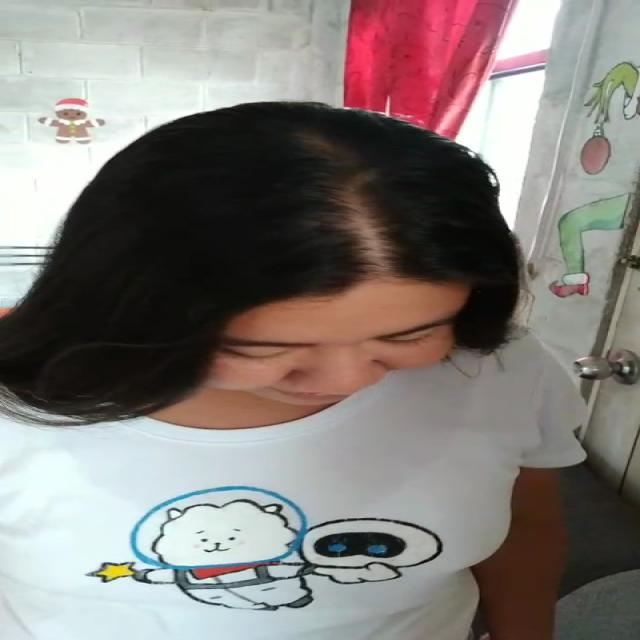9_cabeza_baja: (71, 98, 520, 406)
